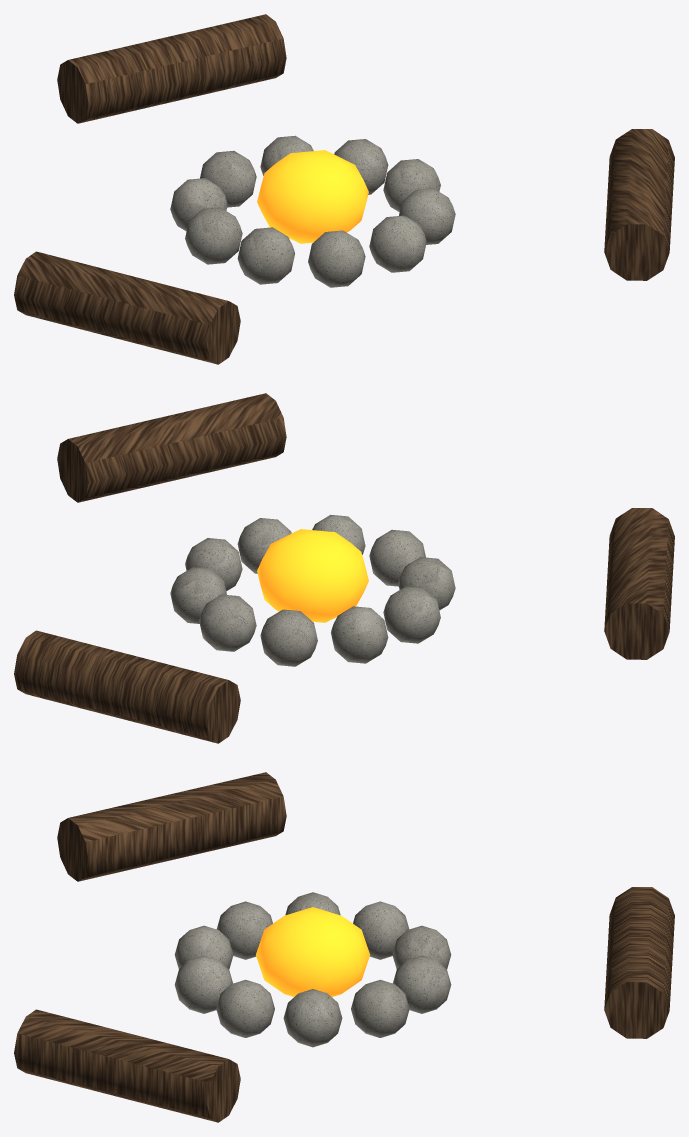
Rendered from i_tipi_camp.gltf.
3 views of the same model, one above another, from view 1: azimuth 30°, elevation 25°; view 2: azimuth 150°, elevation 25°; view 3: azimuth 270°, elevation 25° (orthographic).
Parts seen in each view (by area): view 1: I_tipi_camp; view 2: I_tipi_camp; view 3: I_tipi_camp.
Boxes of the visible parts, bbox=[...] form: I_tipi_camp: bbox=[14, 14, 674, 364]; I_tipi_camp: bbox=[14, 393, 674, 743]; I_tipi_camp: bbox=[14, 772, 674, 1122].
Size of the model in its own units: 4.49 by 0.56 by 4.04.
3 materials, 2 textured.
